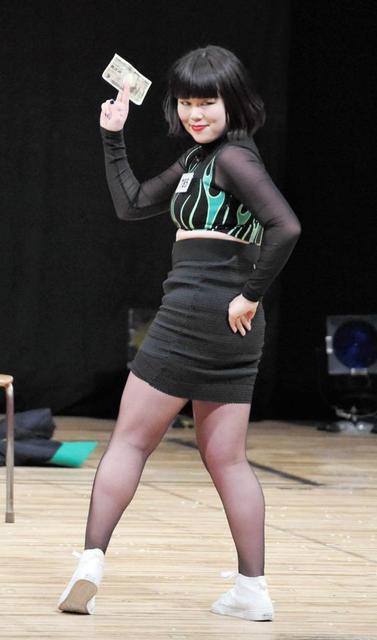face: (177, 83, 226, 143)
hand: (98, 76, 131, 132), (227, 296, 260, 335)
